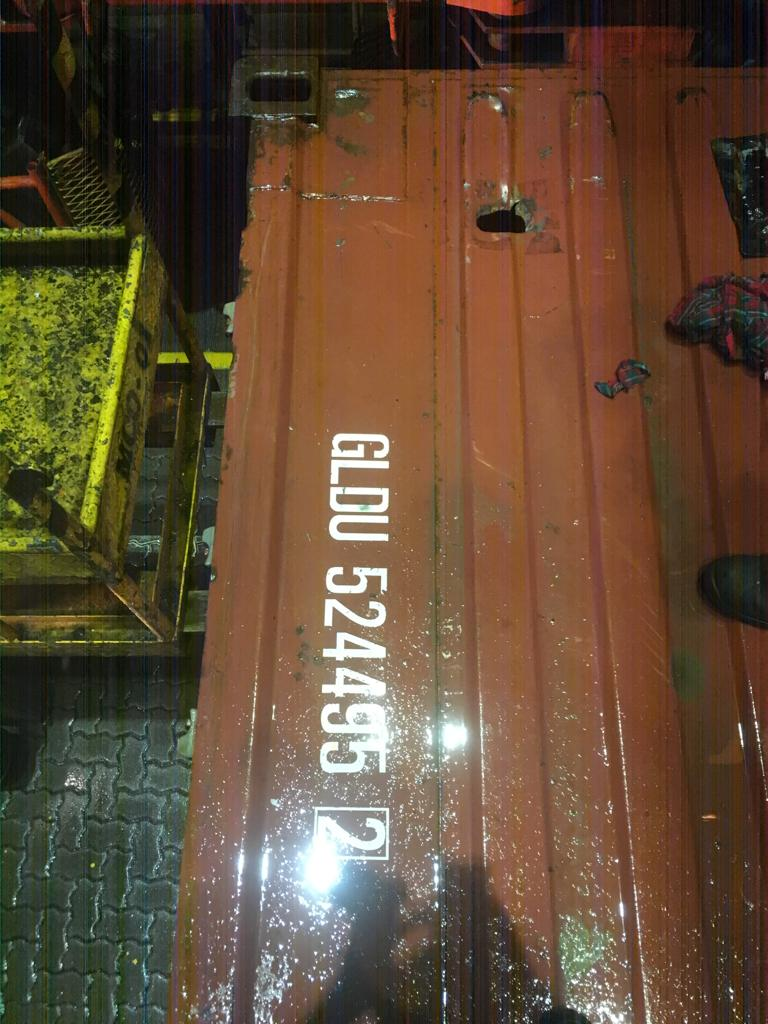severe: (455, 185, 557, 255)
